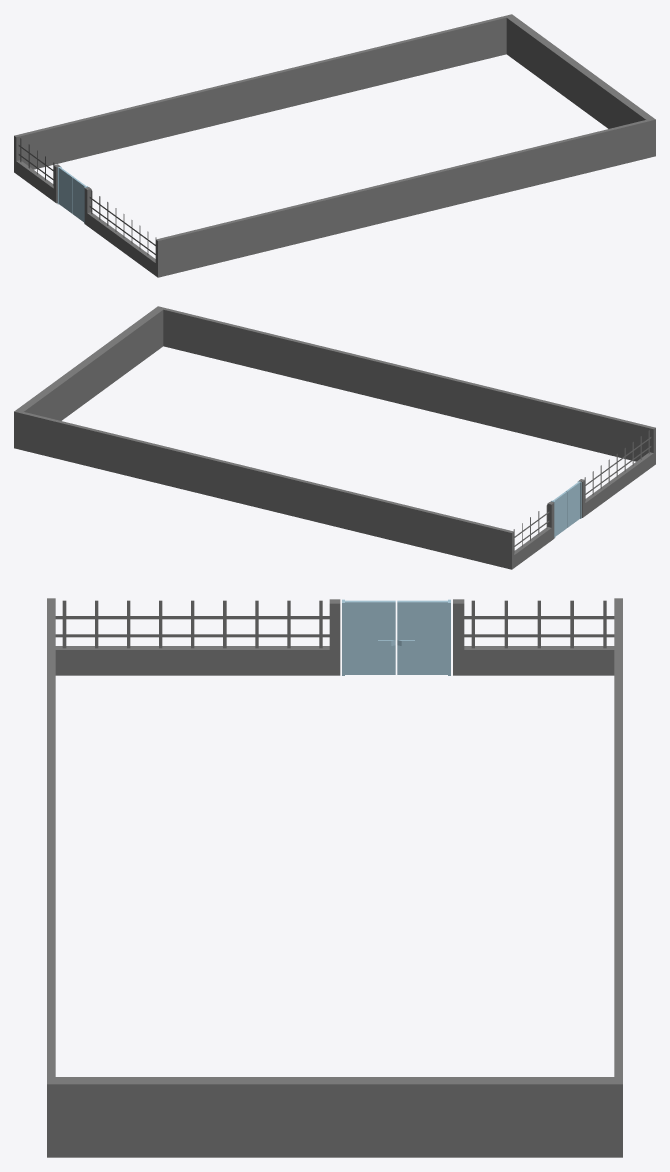
Rendered from House Wall.fbx.
The picture shows the model from 3 angles, top to bottom: view 1: azimuth 30°, elevation 25°; view 2: azimuth 150°, elevation 25°; view 3: azimuth 270°, elevation 25°; orthographic projection. The views are drawn at different scales.
Parts seen in each view (by area): view 1: Cube.001; view 2: Cube.001; view 3: Cube.001.
Boxes of the visible parts, x1,y1,x2,y2 form: Cube.001: [14, 14, 655, 277]; Cube.001: [14, 306, 655, 569]; Cube.001: [47, 598, 622, 1157].
Bounding box in the file's own units: 3991 × 283 × 1999.
